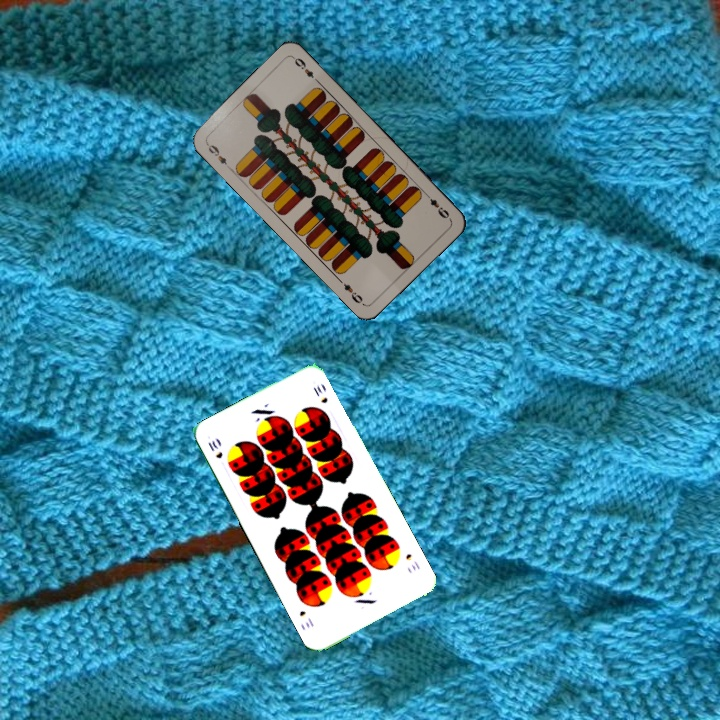E9: (421, 189, 453, 222), (202, 139, 234, 172)
S10: (401, 549, 423, 573), (204, 436, 225, 461)
